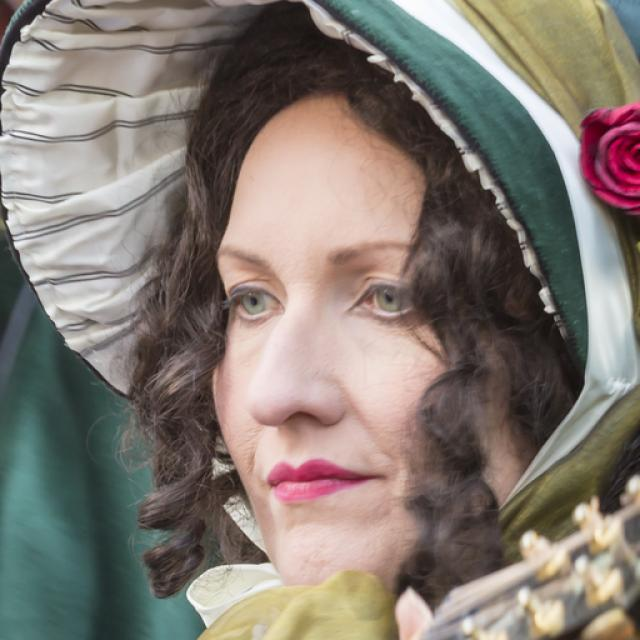sad: (212, 105, 498, 581)
